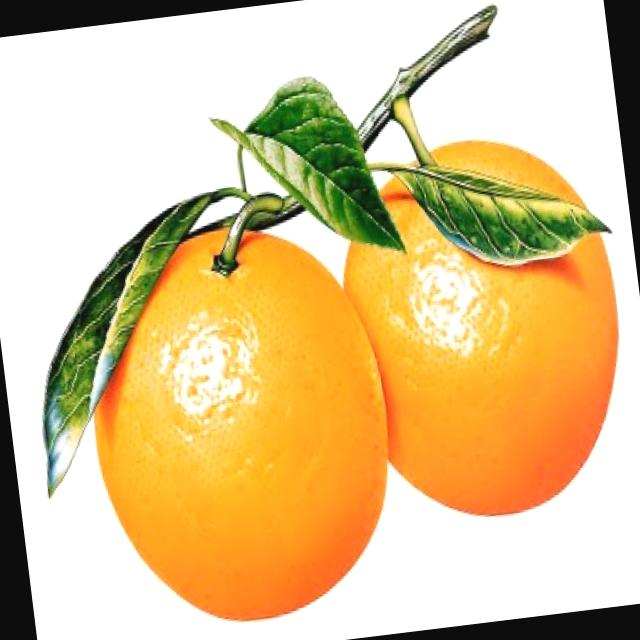orange: (67, 203, 432, 640), (321, 128, 636, 536)
